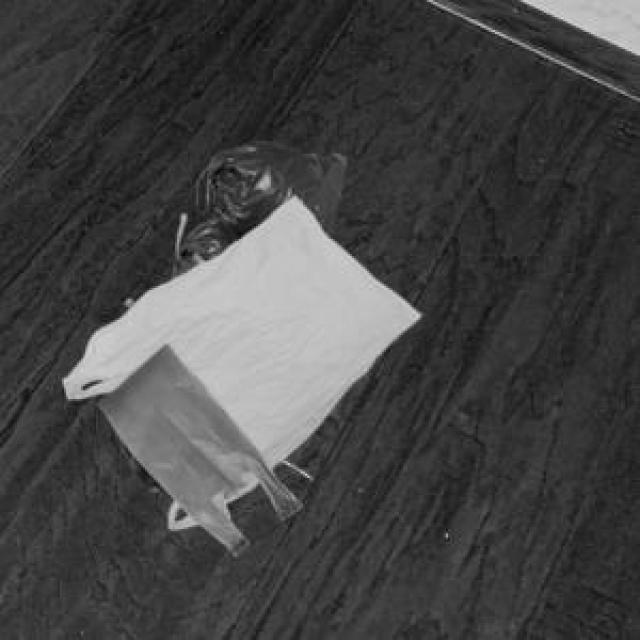miscellaneous trash: (121, 139, 341, 510)
